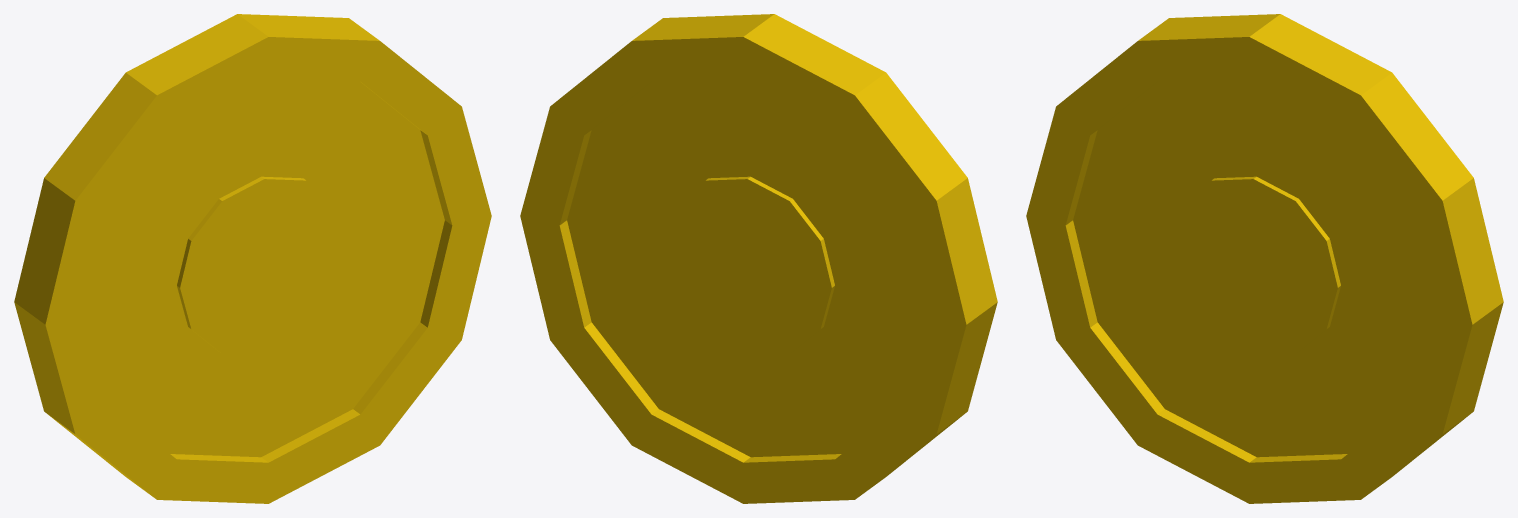
Rendered from moneta.fbx.
The picture shows the model from 3 angles, left to right: view 1: azimuth 30°, elevation 25°; view 2: azimuth 150°, elevation 25°; view 3: azimuth 330°, elevation 25°; orthographic projection.
Visible parts, largest first — view 1: Circle; view 2: Circle; view 3: Circle.
Boxes of the visible parts, box(x1,y1,x2,y2) form: Circle: box(14, 14, 491, 503); Circle: box(520, 14, 997, 503); Circle: box(1026, 14, 1503, 503).
Bounding box in the file's own units: 46.89 × 46.89 × 5.69.
